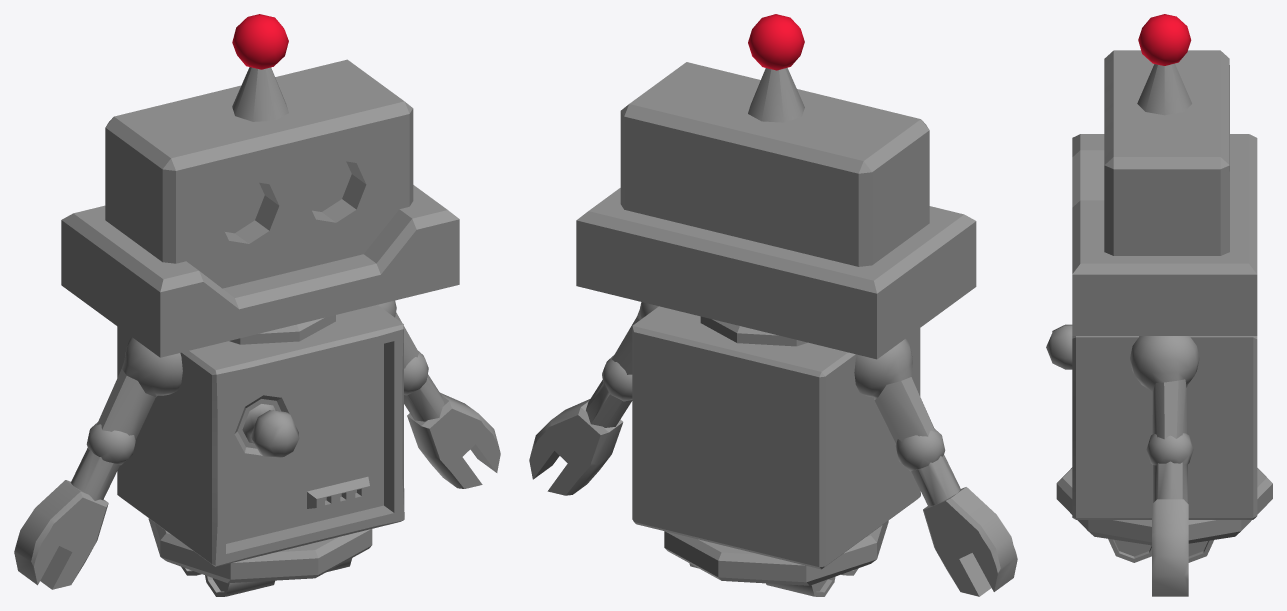
Rendered from Robot3.FBX.
3 renders of one model, left to right at view 1: azimuth 30°, elevation 25°; view 2: azimuth 150°, elevation 25°; view 3: azimuth 270°, elevation 25°, orthographic. The views are drawn at different scales.
Visible parts, largest first — view 1: Head, Body, RightArm2, LeftHand, RotaringPlateform, RightArm, Receiver, Antenna, Neck, Wheel004; view 2: Head, Body, RightArm2, LeftHand, RotaringPlateform, RightArm, Receiver, Antenna, Neck, LeftArm; view 3: Head, Body, LeftHand, LeftArm, RotaringPlateform, Receiver, Antenna, Wheel001, Wheel002.
Part boxes in pixels (x1,y1,x2,y2): Head: [61, 59, 459, 357]; Body: [117, 305, 404, 566]; RightArm2: [14, 422, 135, 589]; LeftHand: [404, 351, 500, 488]; RotaringPlateform: [148, 518, 372, 583]; RightArm: [97, 337, 182, 439]; Receiver: [232, 14, 288, 69]; Antenna: [232, 67, 288, 121]; Neck: [229, 315, 335, 344]; Wheel004: [205, 575, 274, 596]; Head: [576, 62, 976, 359]; Body: [632, 306, 920, 569]; RightArm2: [895, 428, 1017, 596]; LeftHand: [529, 355, 632, 495]; RotaringPlateform: [664, 520, 888, 585]; RightArm: [854, 338, 935, 443]; Receiver: [748, 14, 804, 70]; Antenna: [748, 67, 804, 122]; Neck: [700, 316, 807, 346]; LeftArm: [612, 302, 658, 374]; Head: [1072, 50, 1257, 335]; Body: [1046, 324, 1257, 519]; LeftHand: [1146, 433, 1193, 596]; LeftArm: [1130, 336, 1199, 439]; RotaringPlateform: [1056, 467, 1272, 545]; Receiver: [1138, 14, 1191, 65]; Antenna: [1137, 63, 1191, 115]; Wheel001: [1108, 539, 1151, 562]; Wheel002: [1188, 540, 1213, 562].
Bounding box in the file's own units: 61.82 × 69.86 × 27.73.
